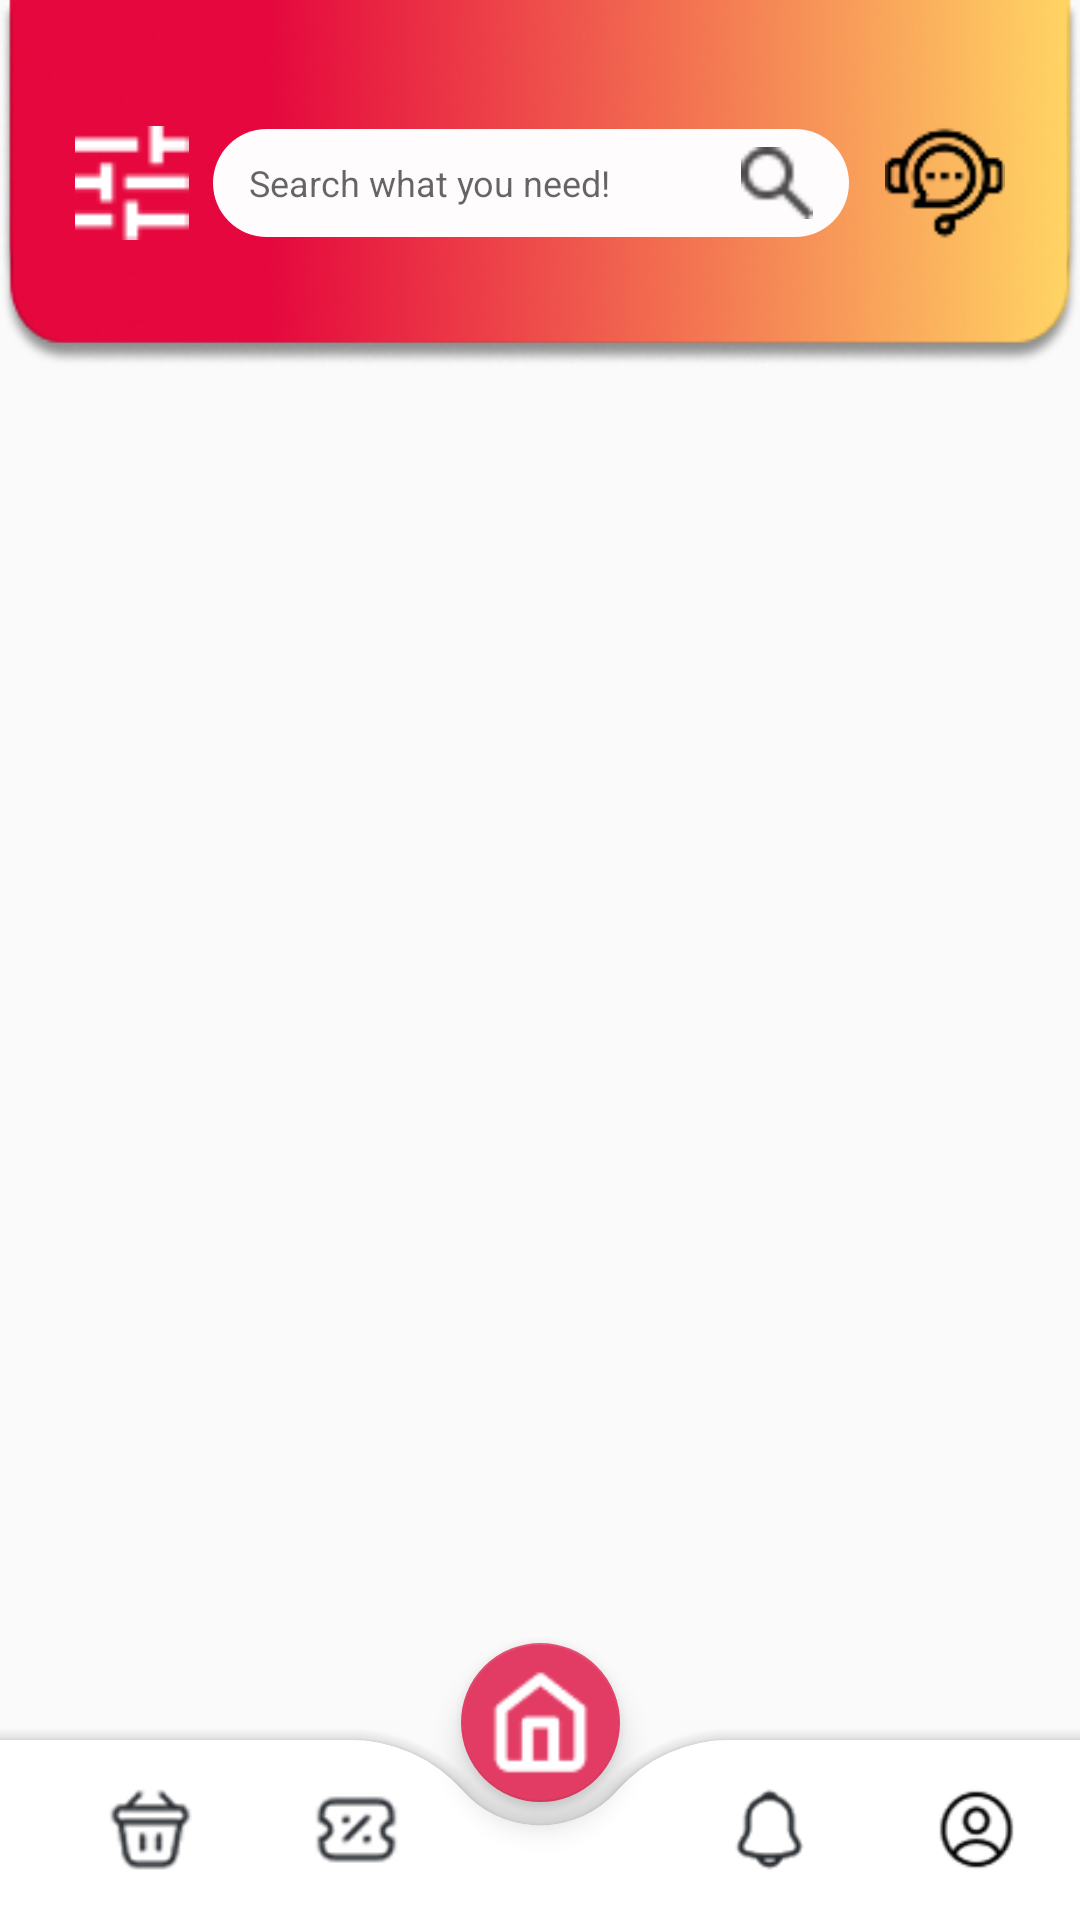

Icons on this 1080×1920 Android screen, each with the point to tap as (x=x, y=y):
account: (x=976, y=1829)
cart: (x=151, y=1830)
chat: (x=945, y=183)
home: (x=540, y=1740)
notification: (x=769, y=1829)
tune: (x=132, y=183)
voucher: (x=356, y=1829)
